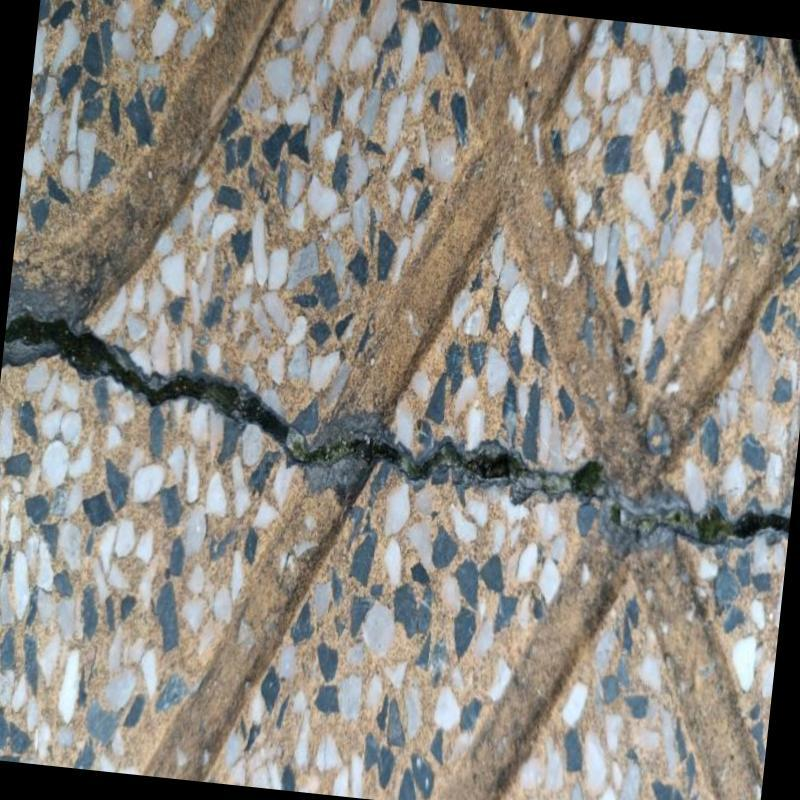crack: (2, 314, 790, 544)
